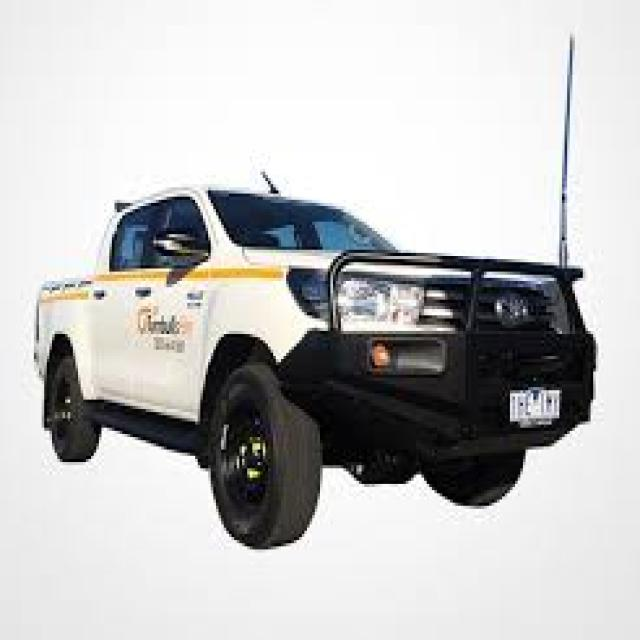light_vehicle: (16, 175, 616, 549)
